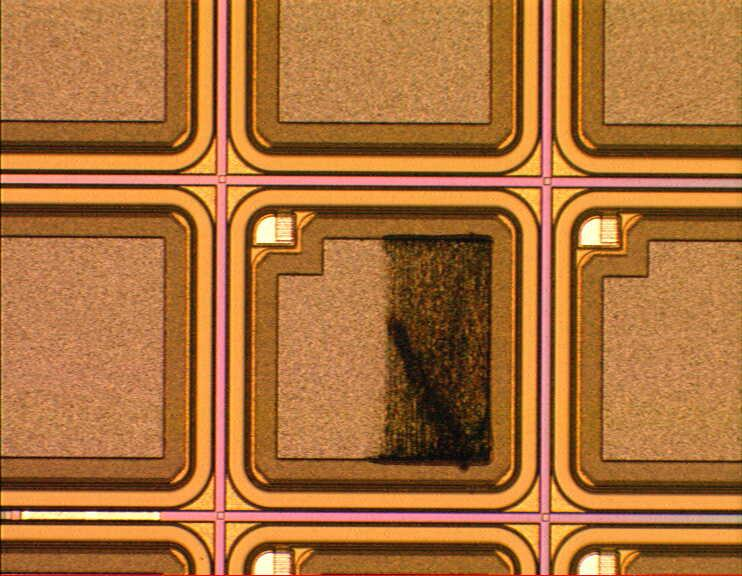SEZ BURNT: (362, 230, 498, 476)
